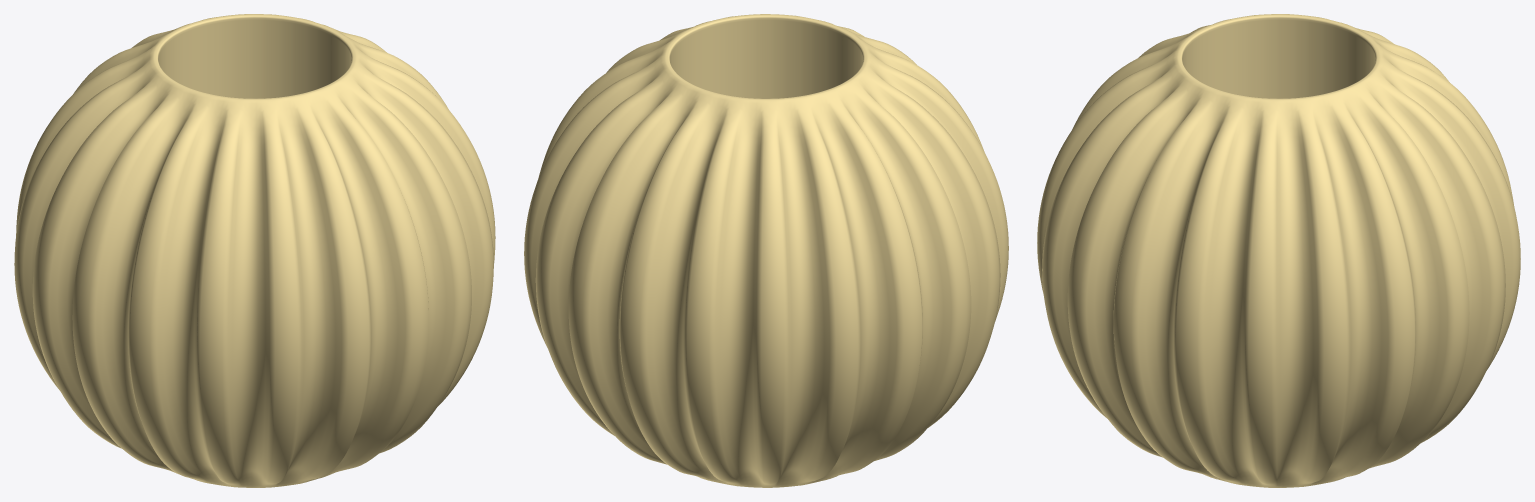
Rendered from Dignity_6mm_Hole_v01.glb.
3 views of the same model, side by side, from view 1: azimuth 30°, elevation 25°; view 2: azimuth 150°, elevation 25°; view 3: azimuth 270°, elevation 25° (orthographic).
Parts seen in each view (by area): view 1: Dignity_6mm_Hole; view 2: Dignity_6mm_Hole; view 3: Dignity_6mm_Hole.
Part boxes in pixels (bbox=[...]): Dignity_6mm_Hole: bbox=[14, 14, 495, 487]; Dignity_6mm_Hole: bbox=[524, 14, 1008, 487]; Dignity_6mm_Hole: bbox=[1037, 14, 1520, 487].
Bounding box in the file's own units: 0.00592 × 0.00523 × 0.00592.
